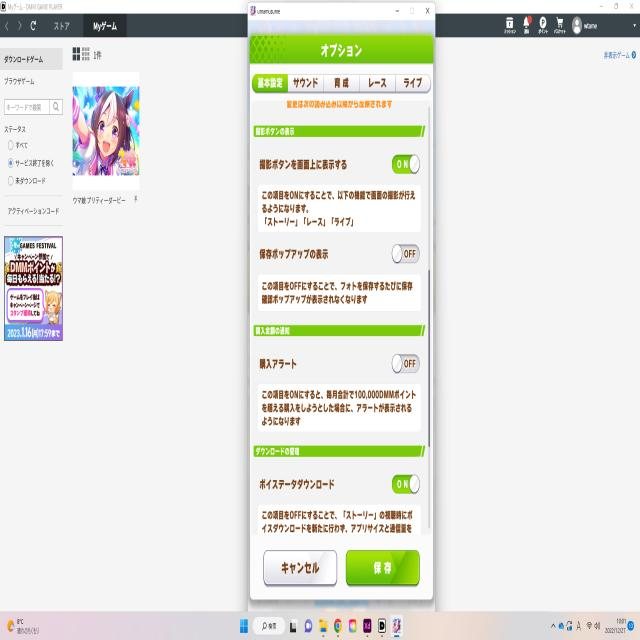radio: (7, 156, 15, 169)
toggle: (392, 243, 421, 265), (392, 353, 420, 375), (391, 475, 420, 495), (392, 154, 420, 173)
